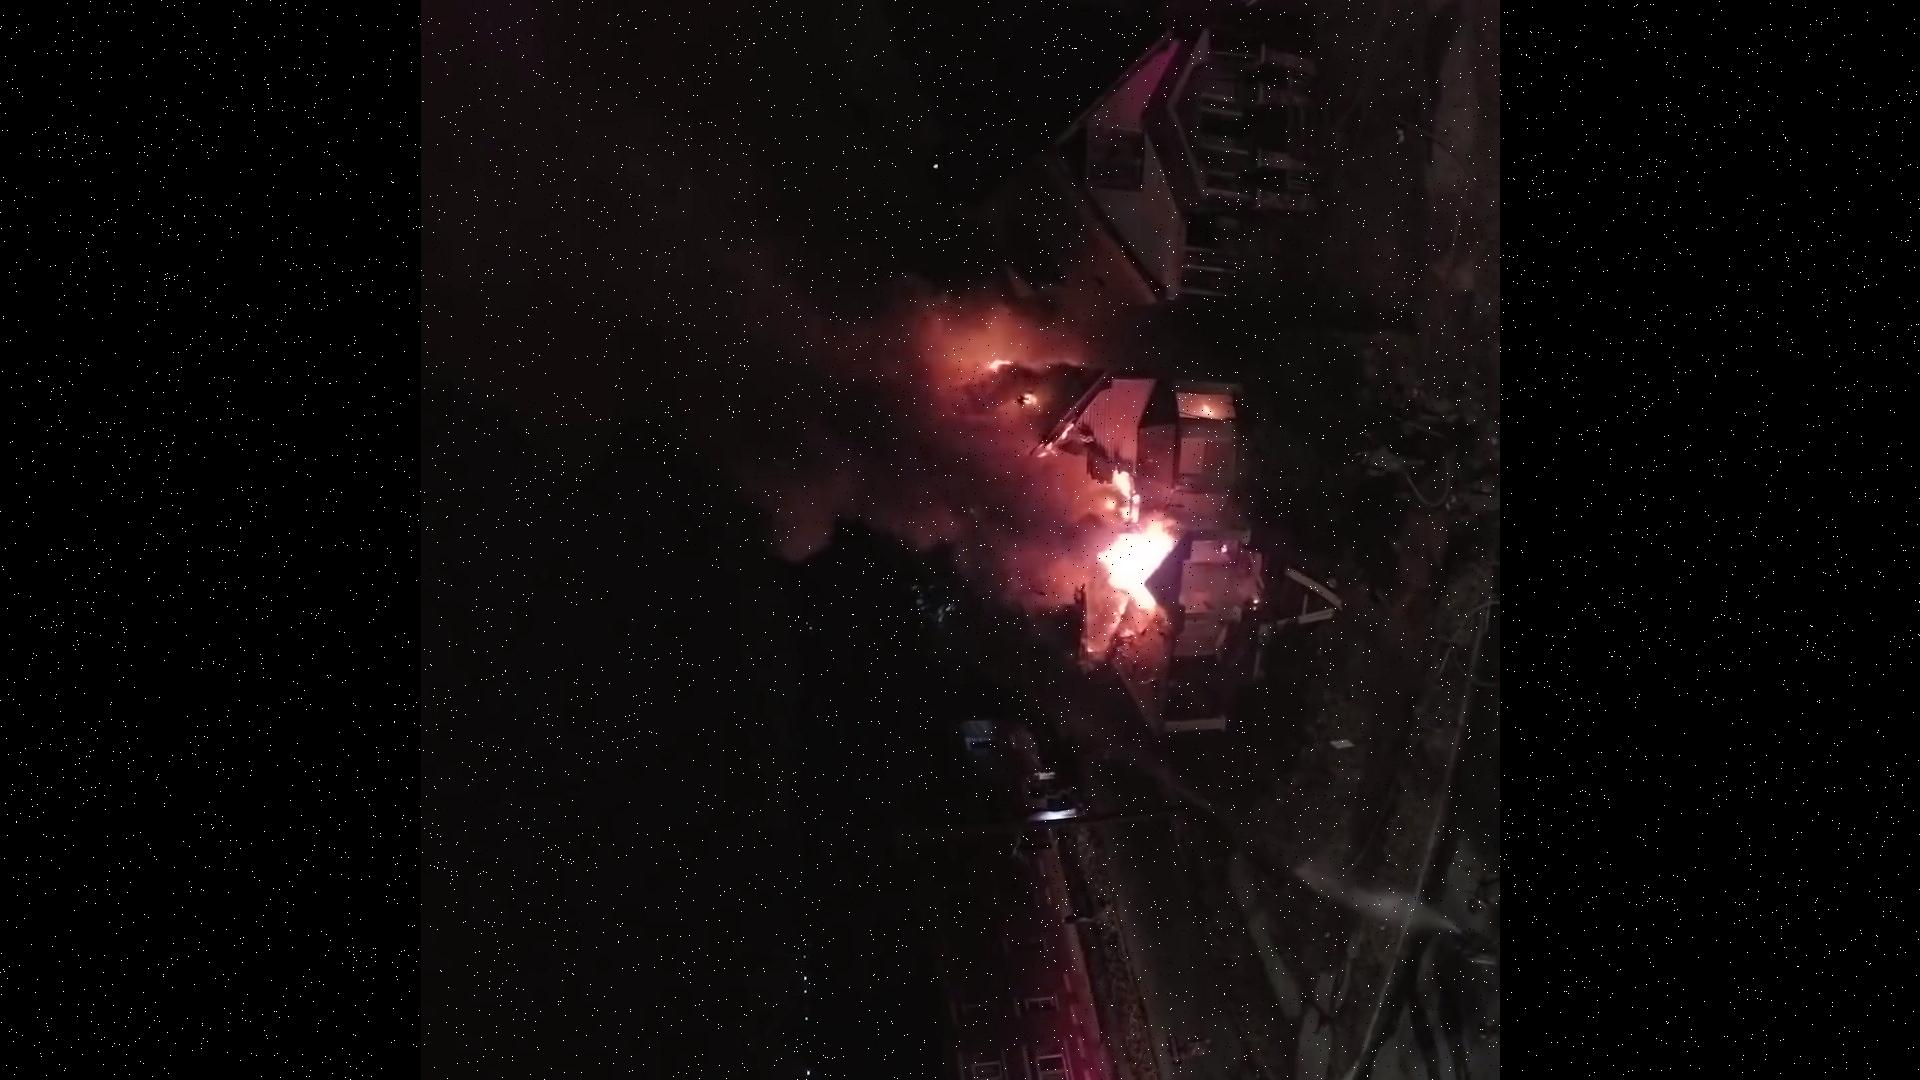fire: (1042, 427, 1196, 650)
